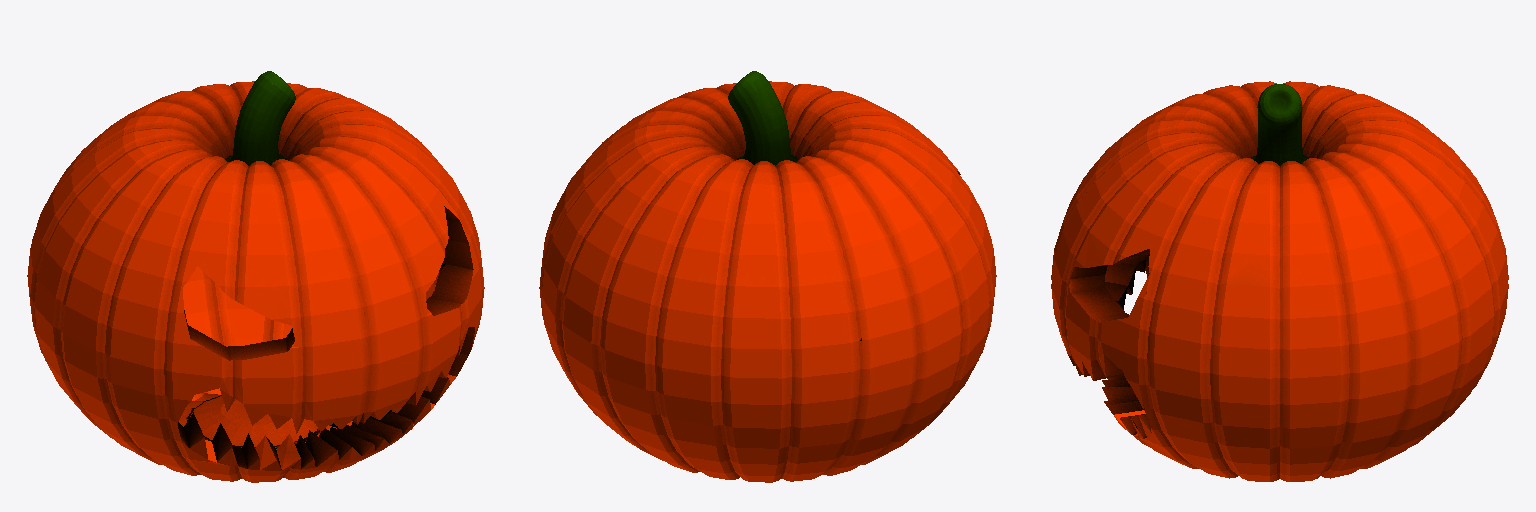
3 renders of one model, left to right at view 1: azimuth 30°, elevation 25°; view 2: azimuth 150°, elevation 25°; view 3: azimuth 270°, elevation 25°, orthographic.
Visible parts, largest first — view 1: polySurface17; view 2: polySurface17; view 3: polySurface17.
Boxes of the visible parts, x1,y1,x2,y2 form: polySurface17: [27, 71, 484, 482]; polySurface17: [539, 71, 996, 482]; polySurface17: [1051, 81, 1508, 481].
Size of the model in its own units: 10.05 by 8.67 by 10.05.
1 materials, 1 textured.